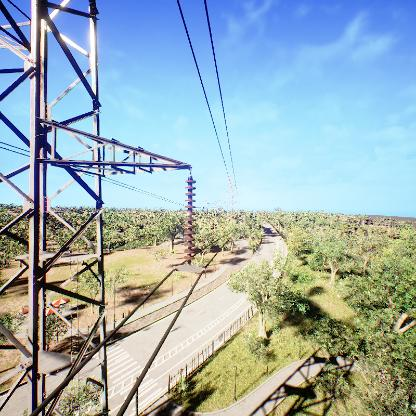insulator: (184, 177, 198, 265)
